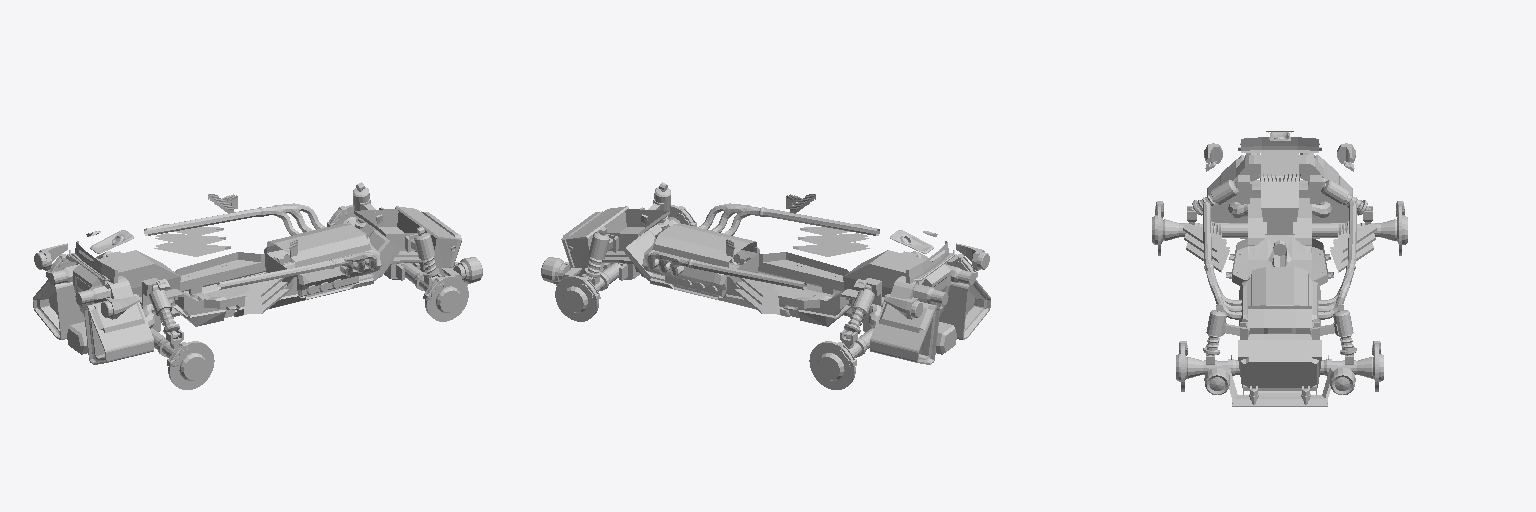
File: Venom_Chassis.obj
The picture shows the model from 3 angles: view 1: azimuth 30°, elevation 25°; view 2: azimuth 150°, elevation 25°; view 3: azimuth 270°, elevation 25°; orthographic projection.
Parts seen in each view (by area): view 1: Body_Venom_PremiumSkin_SK.002; view 2: Body_Venom_PremiumSkin_SK.002; view 3: Body_Venom_PremiumSkin_SK.002.
Part boxes in pixels (left/top/right/bottom): Body_Venom_PremiumSkin_SK.002: left=33, top=182, right=482, bottom=389; Body_Venom_PremiumSkin_SK.002: left=541, top=182, right=990, bottom=389; Body_Venom_PremiumSkin_SK.002: left=1152, top=131, right=1407, bottom=406.
Size of the model in its own units: 9.99 by 3.2 by 5.79.